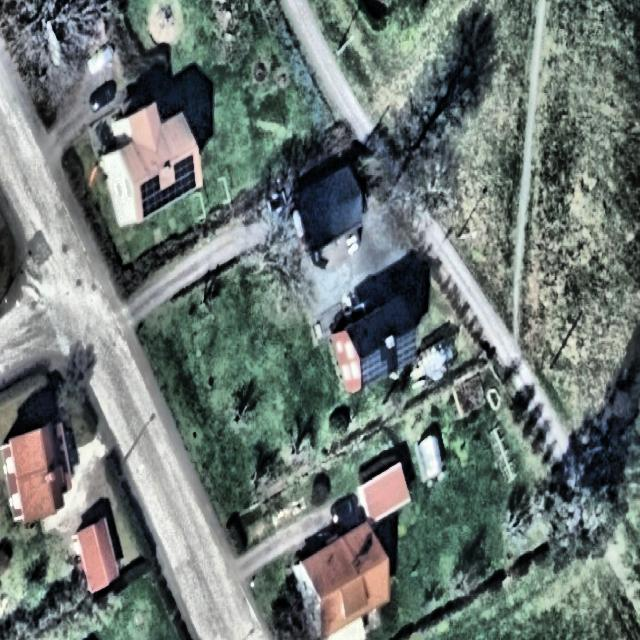roof_pv: (138, 170, 163, 217), (174, 154, 197, 201), (362, 347, 389, 385), (397, 330, 421, 370), (164, 182, 175, 209)
